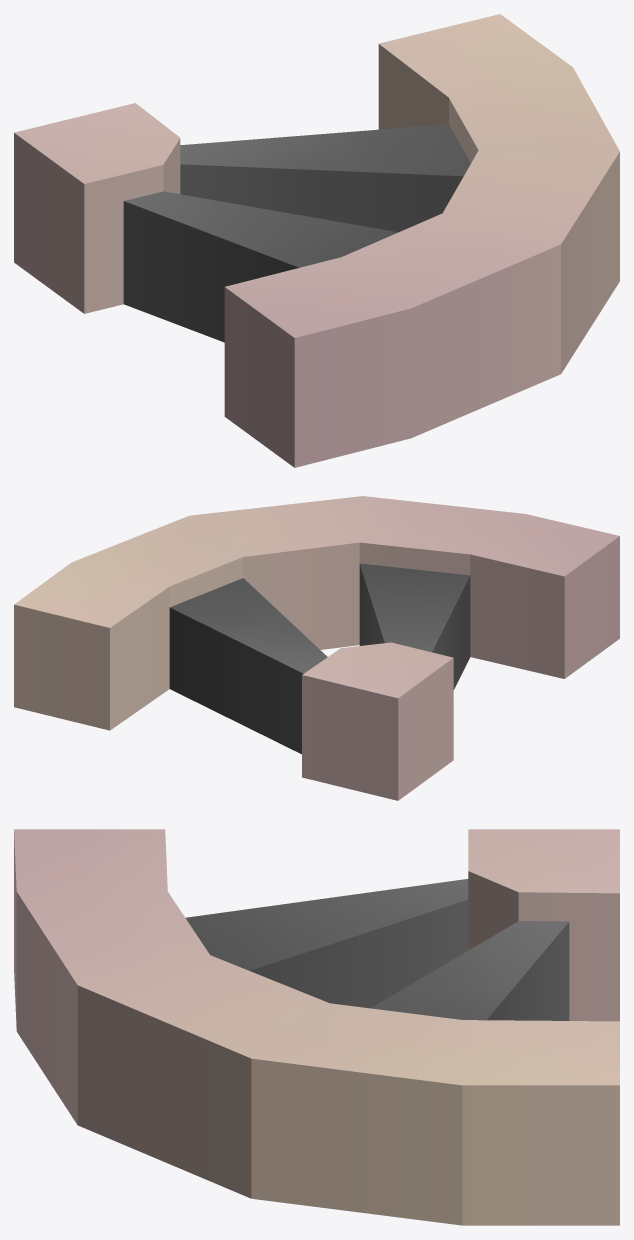
File: Train Paht_2.fbx
3 views of the same model, one above another, from view 1: azimuth 30°, elevation 25°; view 2: azimuth 150°, elevation 25°; view 3: azimuth 270°, elevation 25° (orthographic). The views are drawn at different scales.
Visible parts, largest first — view 1: Train Paht_2; view 2: Train Paht_2; view 3: Train Paht_2.
Boxes of the visible parts, bbox=[...] form: Train Paht_2: bbox=[14, 14, 619, 467]; Train Paht_2: bbox=[14, 496, 619, 800]; Train Paht_2: bbox=[14, 829, 619, 1225].
Size of the model in its own units: 245 by 62.65 by 245.
Materials: 1 (1 with a texture image).
